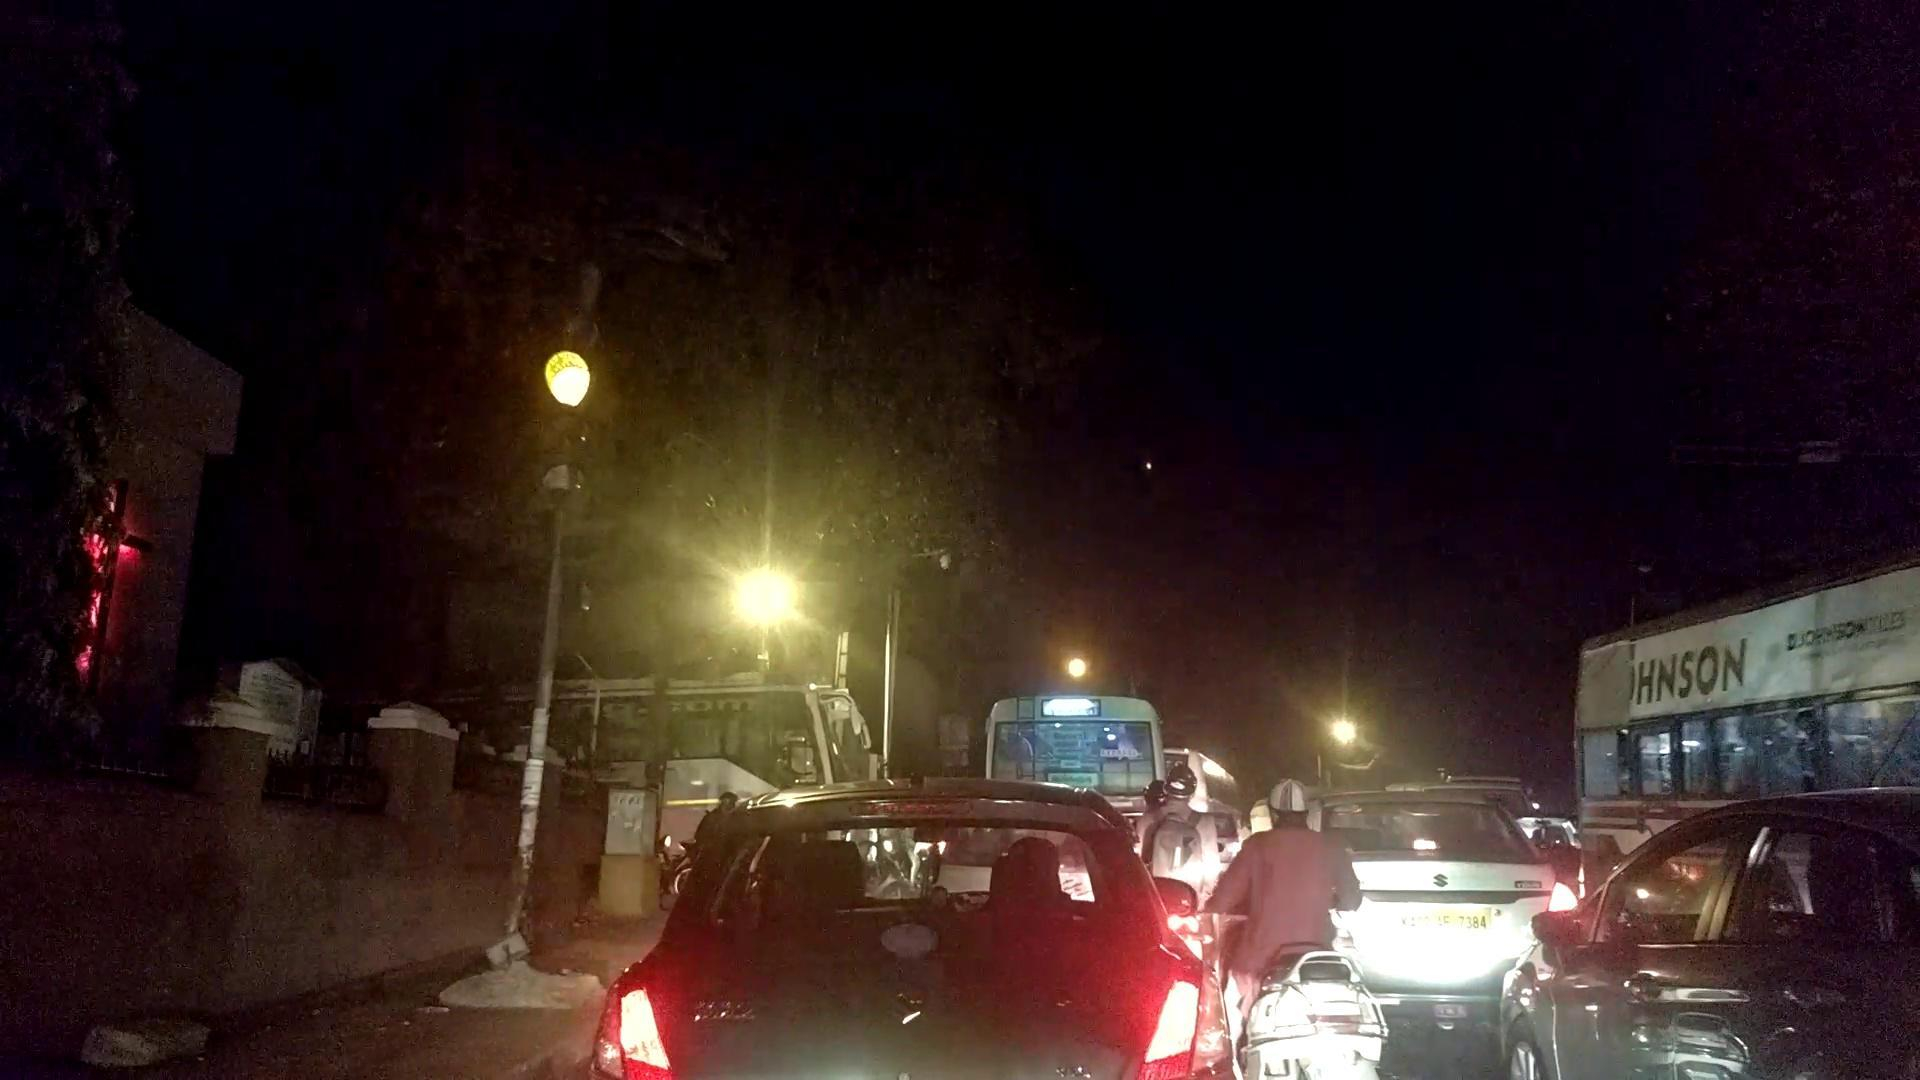on: (550, 252, 903, 779)
